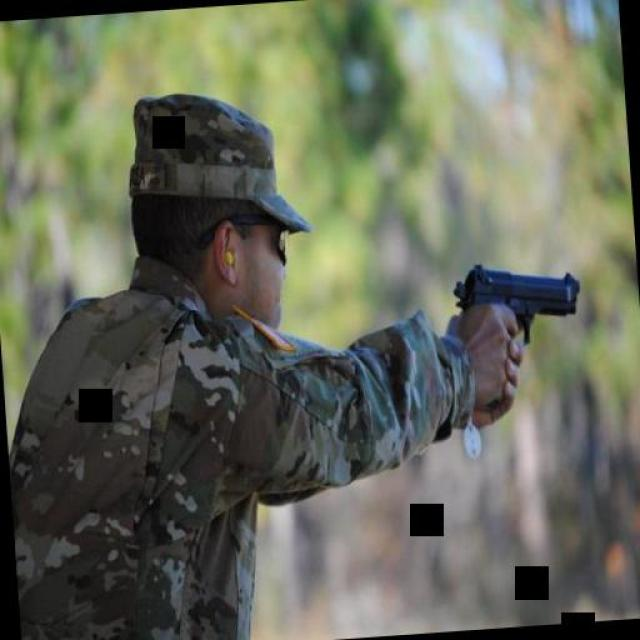gun: (448, 249, 582, 365)
